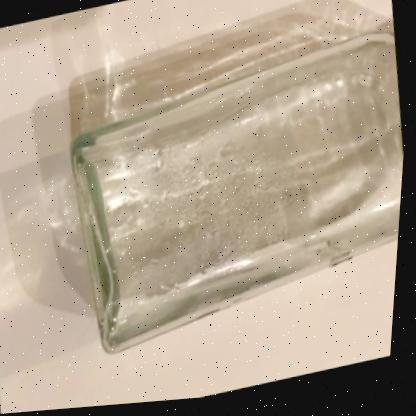Glass: (73, 39, 406, 353)
